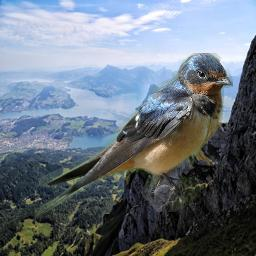Swallow: (35, 53, 233, 220)
